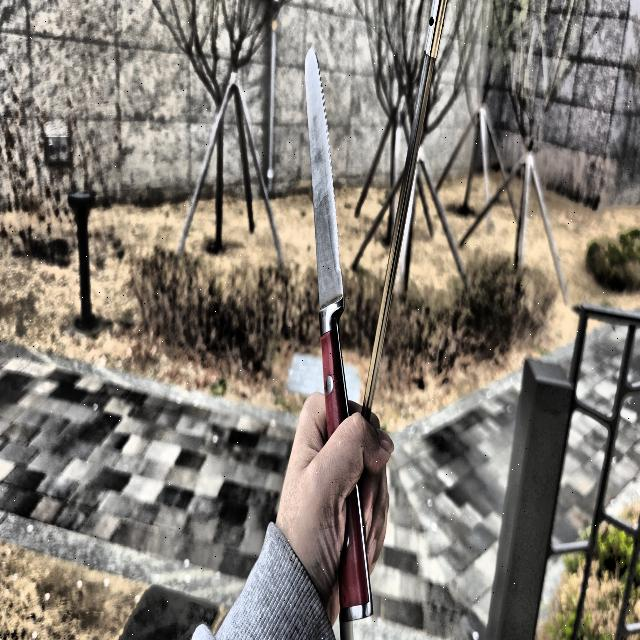knife: (304, 44, 374, 626)
